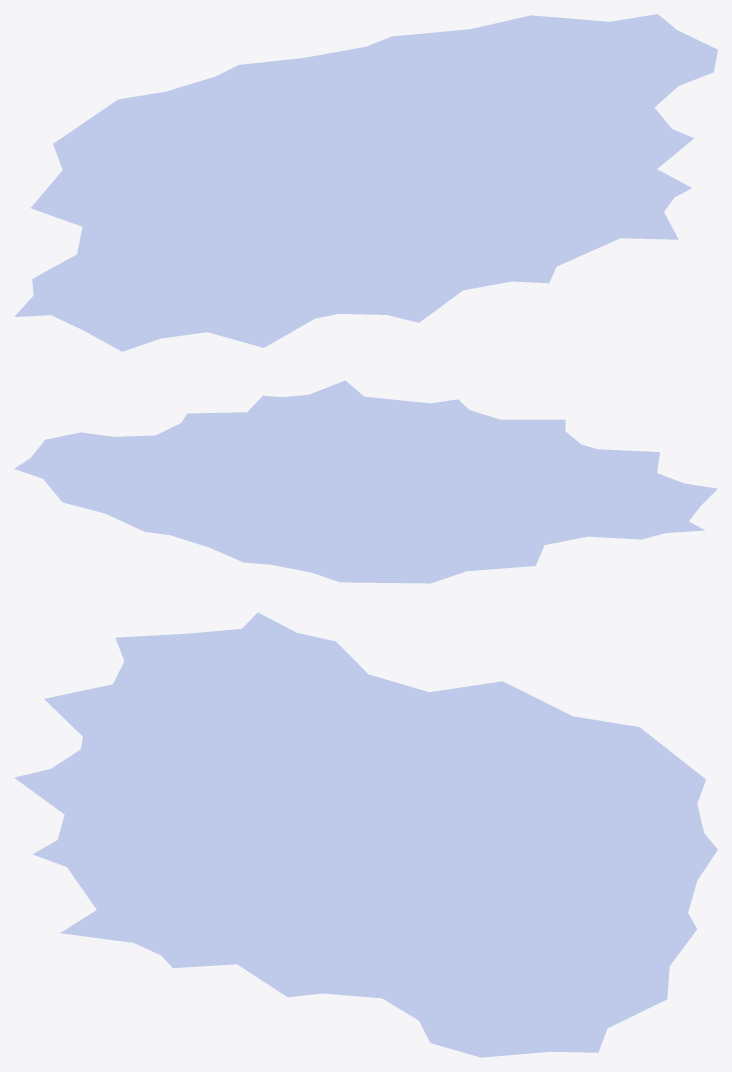
3 renders of one model, top to bottom at view 1: azimuth 30°, elevation 25°; view 2: azimuth 150°, elevation 25°; view 3: azimuth 270°, elevation 25°, orthographic. The views are drawn at different scales.
Parts seen in each view (by area): view 1: Plane; view 2: Plane; view 3: Plane.
Boxes of the visible parts, x1,y1,x2,y2 form: Plane: [15, 14, 717, 351]; Plane: [15, 381, 716, 583]; Plane: [15, 613, 717, 1057].
Size of the model in its own units: 3.28 by 2.19 by 0.
